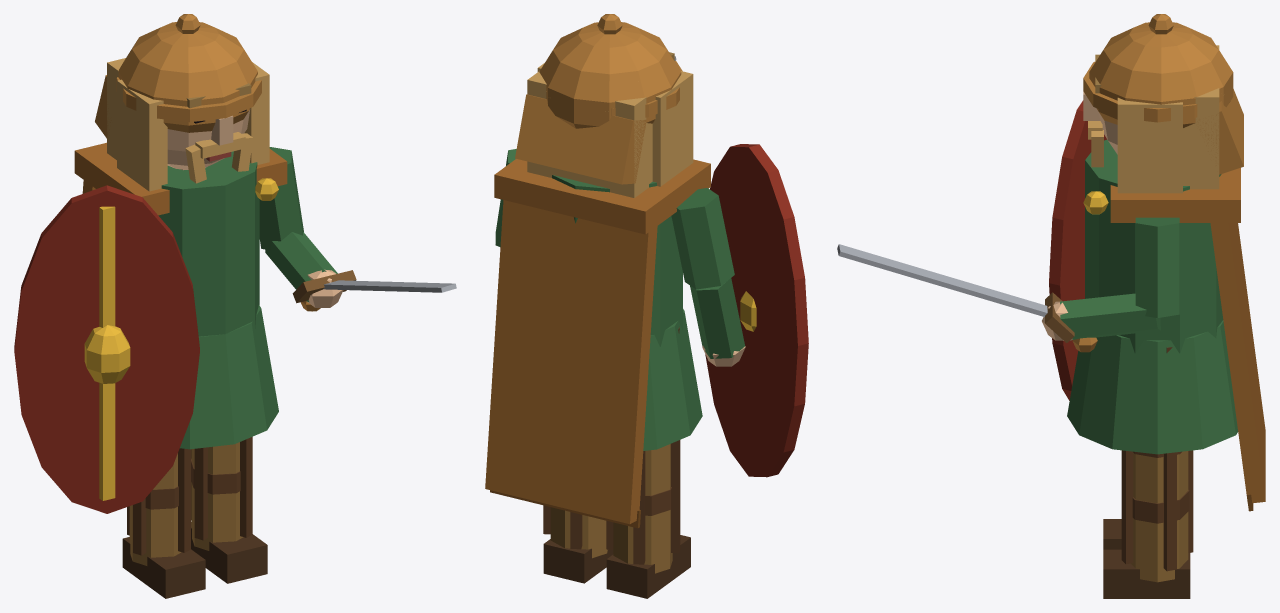
Rendered from brennus.glb.
The picture shows the model from 3 angles, left to right: view 1: azimuth 30°, elevation 25°; view 2: azimuth 150°, elevation 25°; view 3: azimuth 270°, elevation 25°; orthographic projection.
Parts seen in each view (by area): view 1: reka_l, cialo, glowa, noga_p, noga_l, reka_p; view 2: peleryna, reka_l, glowa, cialo, noga_l, noga_p; view 3: cialo, glowa, reka_p, noga_p, peleryna, reka_l, noga_l.
Part boxes in pixels (x1=…): reka_l: x1=14, y1=185, x2=199, y2=513; cialo: x1=74, y1=142, x2=287, y2=449; glowa: x1=95, y1=14, x2=269, y2=191; noga_p: x1=191, y1=437, x2=267, y2=583; noga_l: x1=122, y1=448, x2=205, y2=598; reka_p: x1=259, y1=147, x2=456, y2=311; peleryna: x1=485, y1=200, x2=657, y2=528; reka_l: x1=671, y1=144, x2=808, y2=477; glowa: x1=515, y1=14, x2=693, y2=197; cialo: x1=494, y1=159, x2=710, y2=450; noga_l: x1=606, y1=327, x2=690, y2=598; noga_p: x1=543, y1=505, x2=613, y2=583; cialo: x1=1067, y1=139, x2=1240, y2=454; glowa: x1=1083, y1=14, x2=1243, y2=193; reka_p: x1=837, y1=217, x2=1179, y2=352; noga_p: x1=1103, y1=347, x2=1193, y2=598; peleryna: x1=1210, y1=223, x2=1265, y2=511; reka_l: x1=1049, y1=100, x2=1106, y2=400; noga_l: x1=1103, y1=519, x2=1121, y2=549.
Bounding box in the file's own units: 0.9657 × 1.7 × 1.18.
